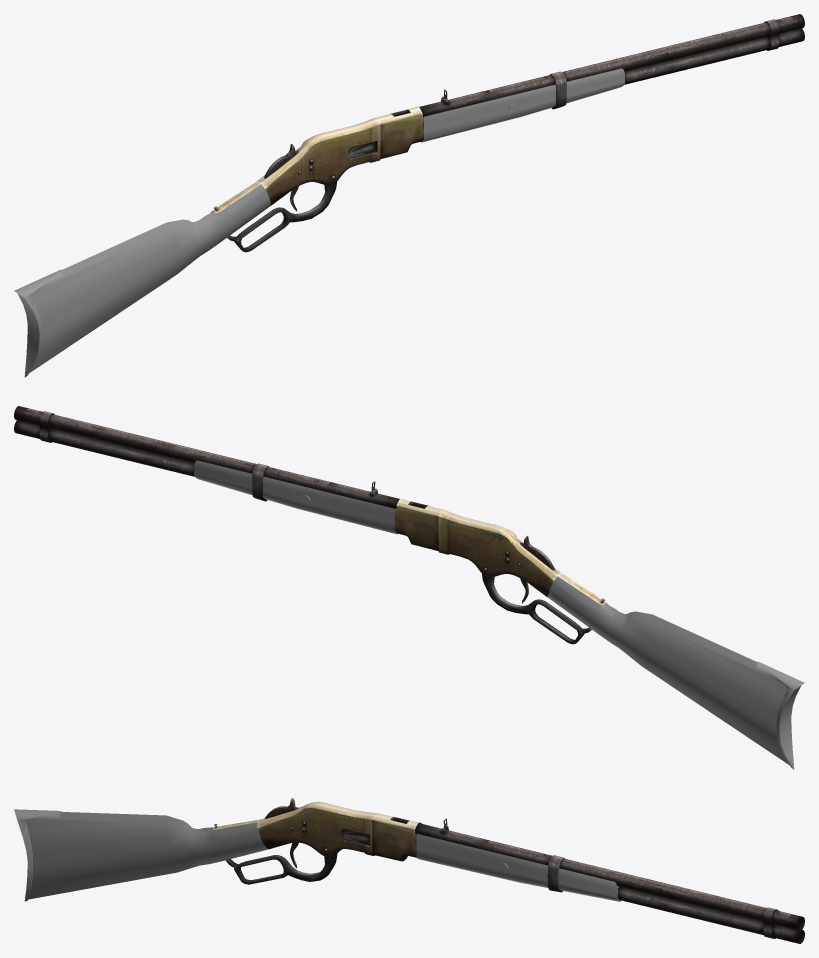
Rendered from RIFLE.FBX.
3 renders of one model, top to bottom at view 1: azimuth 30°, elevation 25°; view 2: azimuth 150°, elevation 25°; view 3: azimuth 330°, elevation 25°, orthographic.
Parts seen in each view (by area): view 1: WOODEN004, Object006, Object004; view 2: WOODEN004, Object006, Object004; view 3: WOODEN004, Object006, Object004.
Boxes of the visible parts, box(x1,y1,x2,y2) form: WOODEN004: box(14, 68, 624, 377); Object006: box(213, 14, 804, 212); Object004: box(227, 182, 336, 252); WOODEN004: box(194, 460, 804, 769); Object006: box(14, 406, 605, 604); Object004: box(482, 574, 591, 644); WOODEN004: box(14, 809, 621, 901); Object006: box(213, 801, 804, 943); Object004: box(226, 853, 337, 884).
Bounding box in the file's own units: 236 × 52.95 × 6.17.
